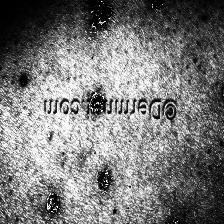Non-Cancerous Skin Condition: (32, 168, 120, 218), (86, 0, 124, 40), (84, 88, 115, 122), (5, 55, 31, 87), (144, 0, 166, 26), (162, 213, 192, 224), (214, 79, 224, 112)
